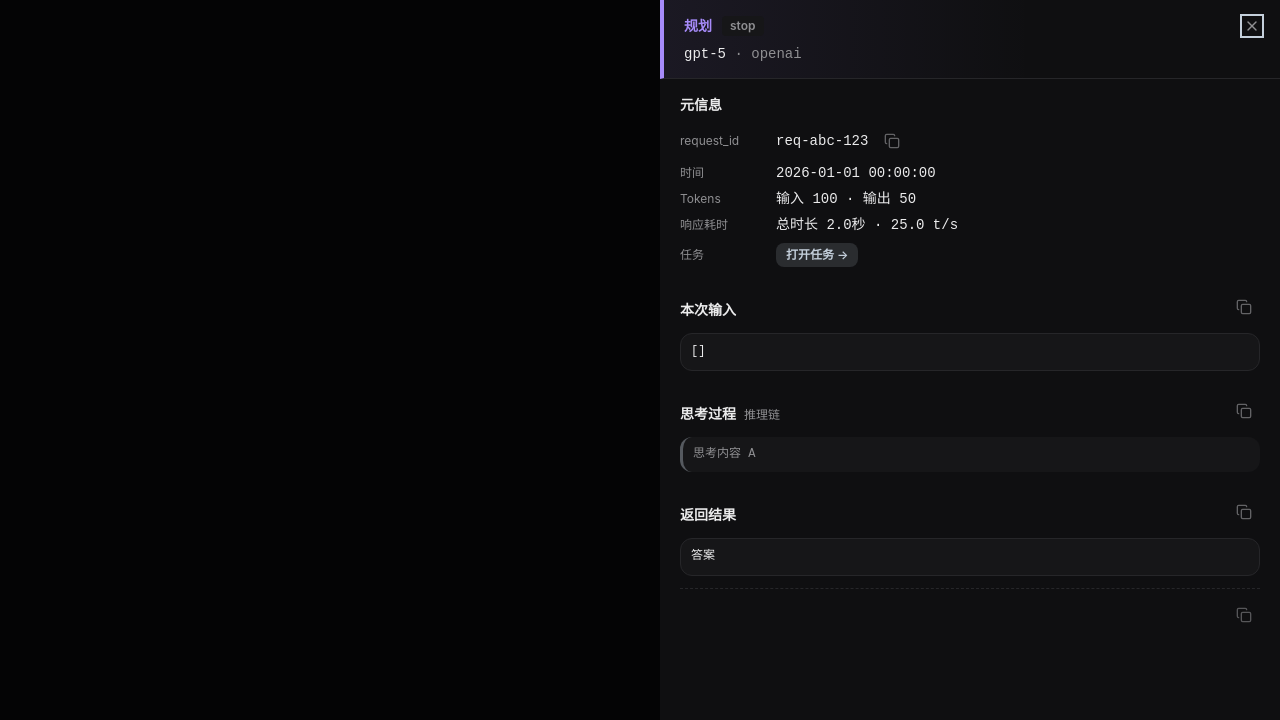
Test: LlmInvocationDrawer › 复制按钮：思考过程区块复制 reasoning 内容
Step 1. Click the button named "复制" in the row of "推理链" → (1244,410), box [1228, 394, 1260, 426]
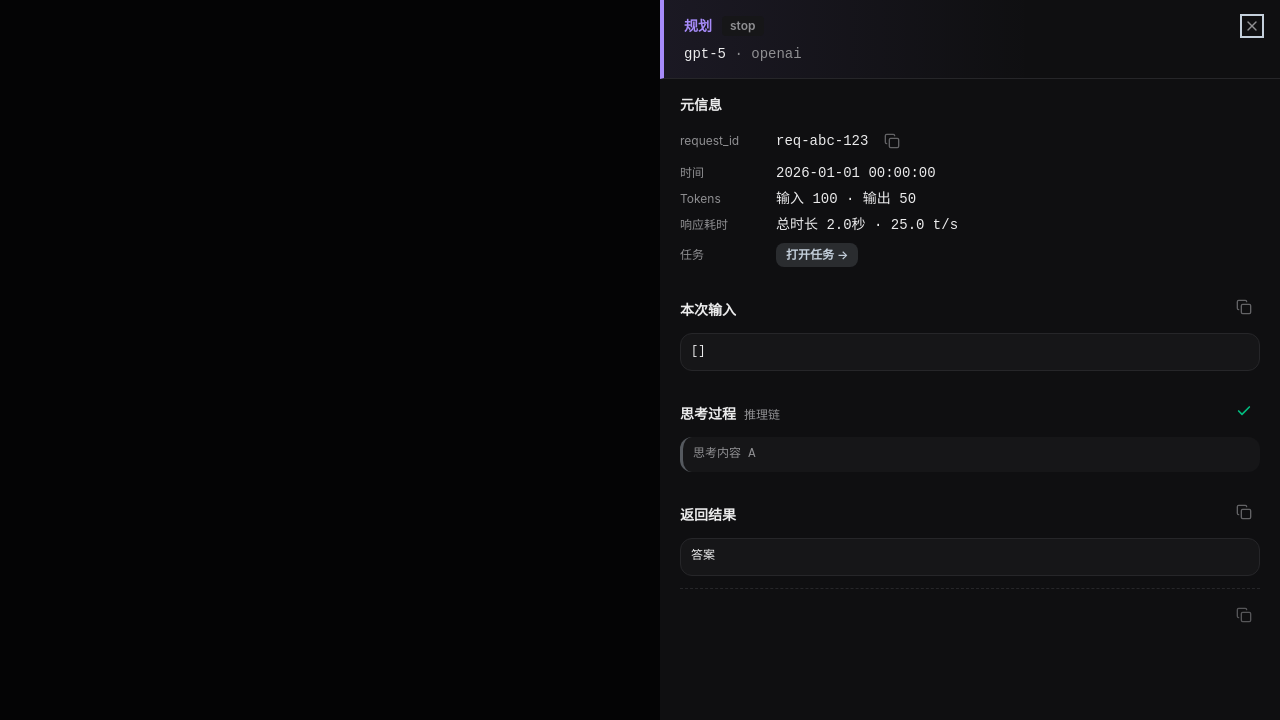
Now the button named "已复制" is shown, box [1228, 394, 1260, 426]
